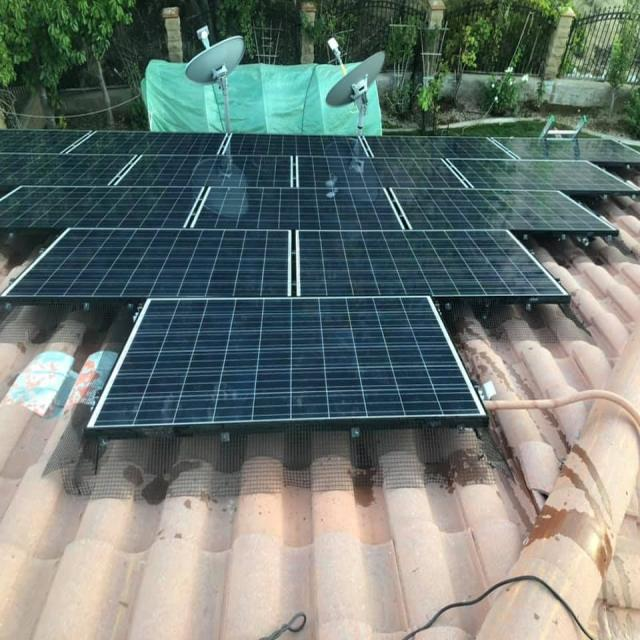clean-solar-panel: (0, 132, 630, 437)
